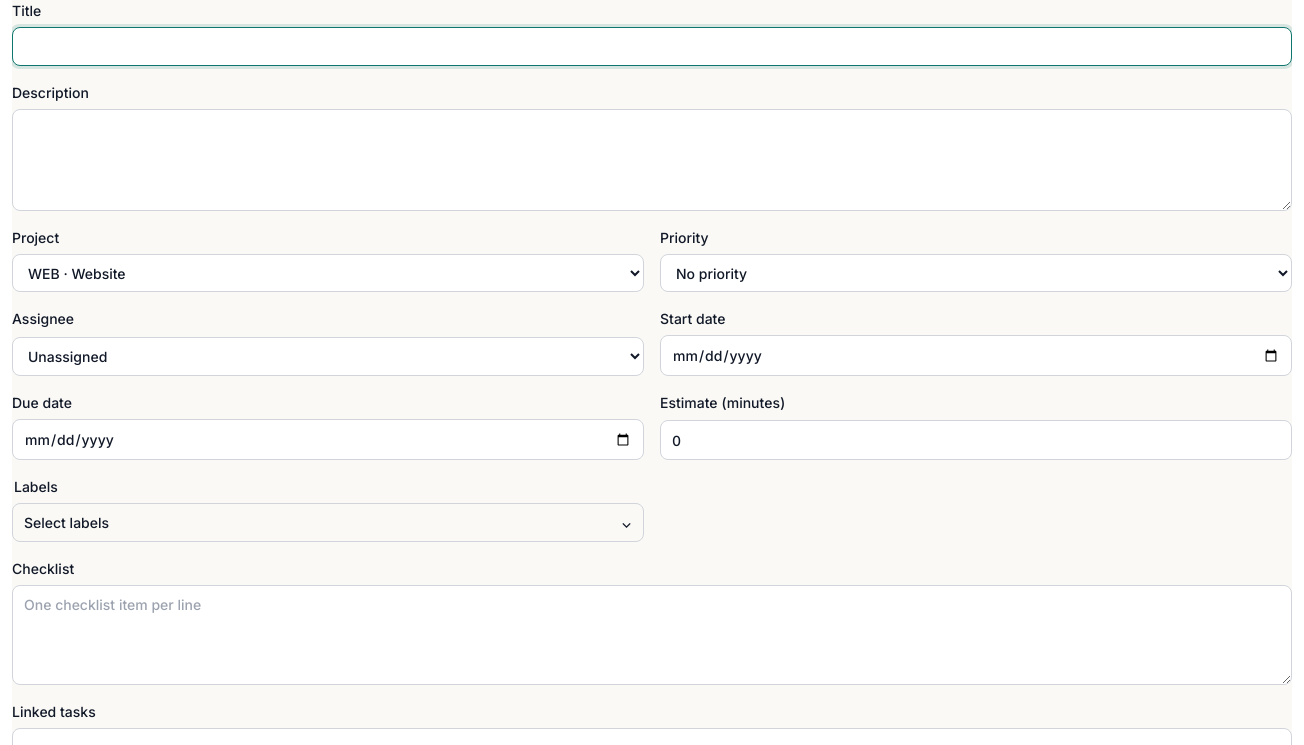
Test: TaskForm labels › submits every checked workspace label
This screenshot has width=1304, height=745.
Later steps or results of the test are not shown.
Type "Fix navigation" into the field labelled "Title" at coordinates (652, 46), box [12,27,1292,66]
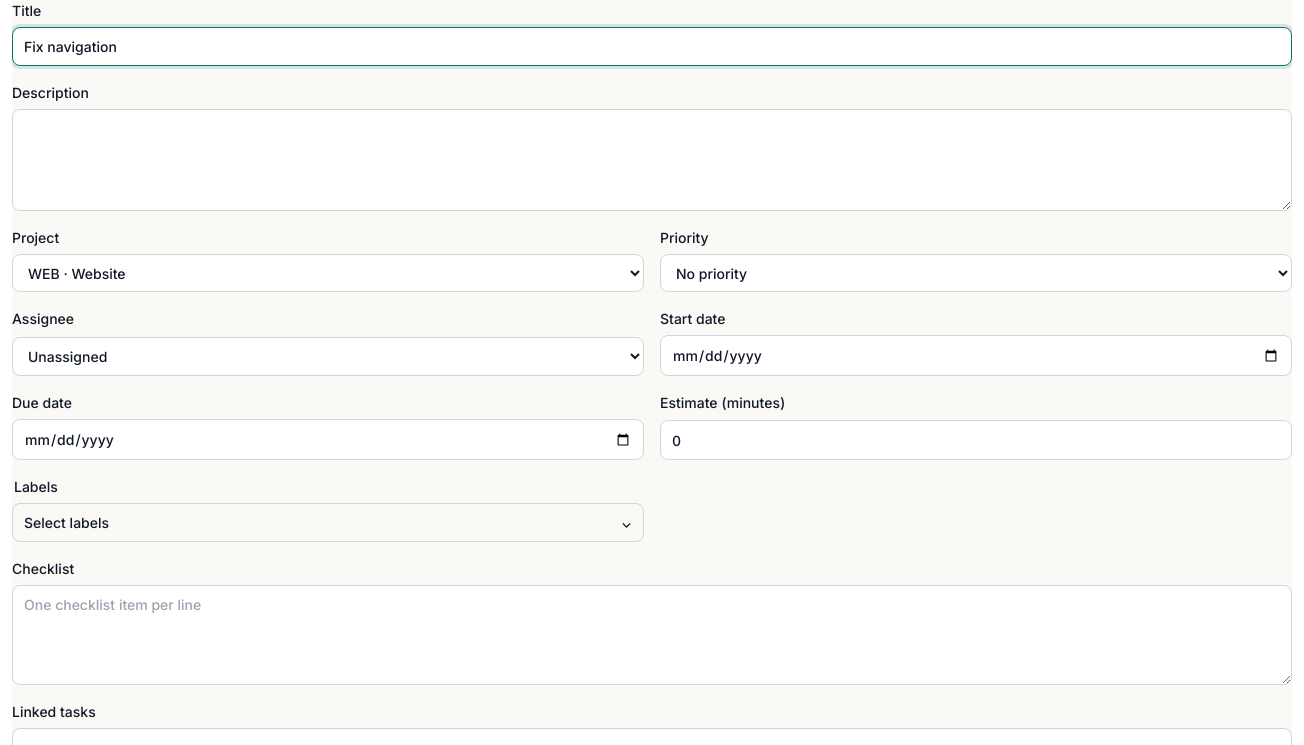
Click the heading "Select labels ⌄" at coordinates (67, 522), box [12,503,644,542]
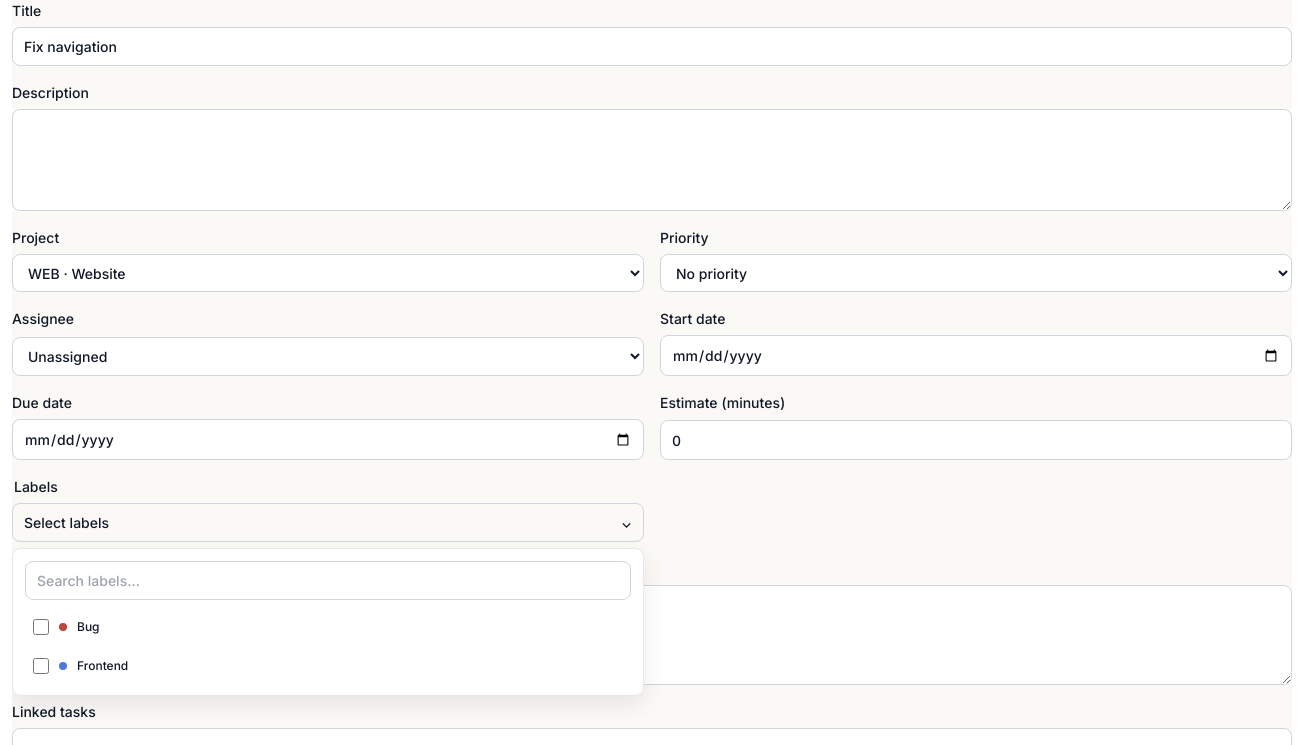
Type "front" into the search field labelled "Search labels" at coordinates (328, 580), box [25,561,631,600]
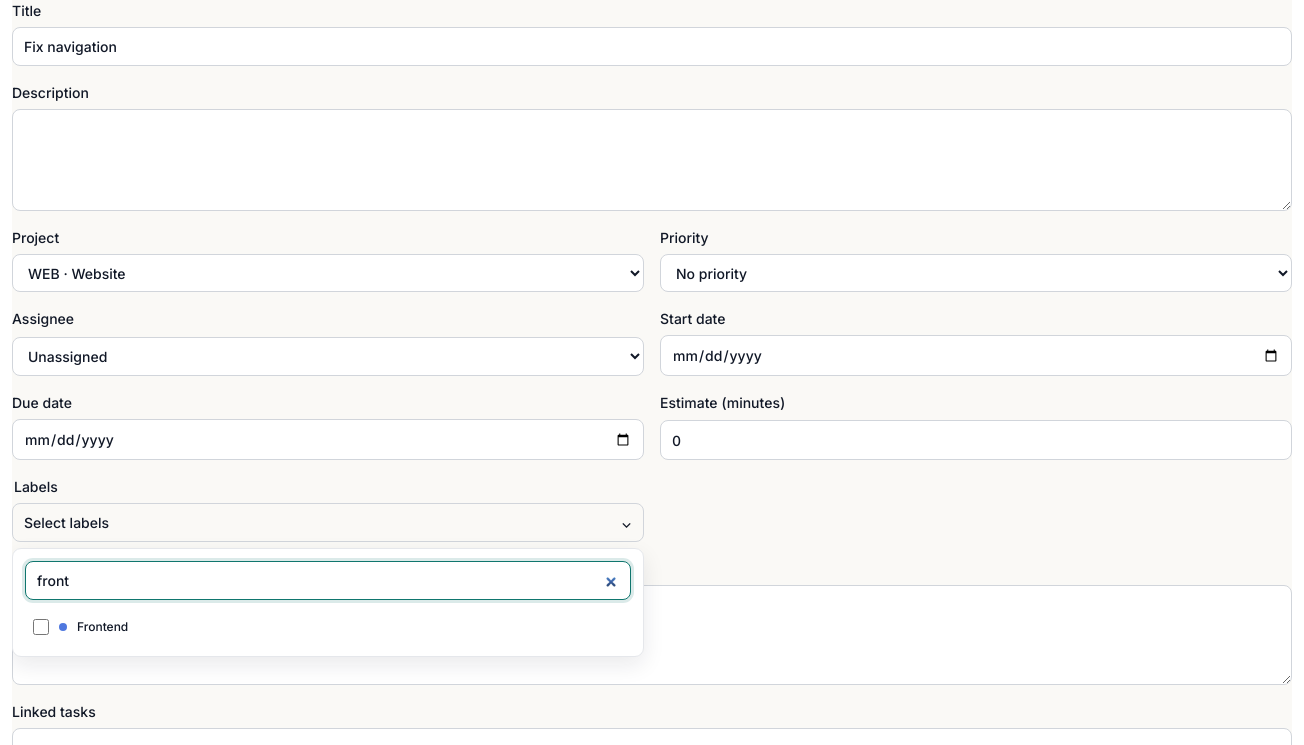
Expected: the text labelled "Bug" is gone
Click the checkbox labelled "Frontend" at coordinates (41, 627), box [33,619,49,635]
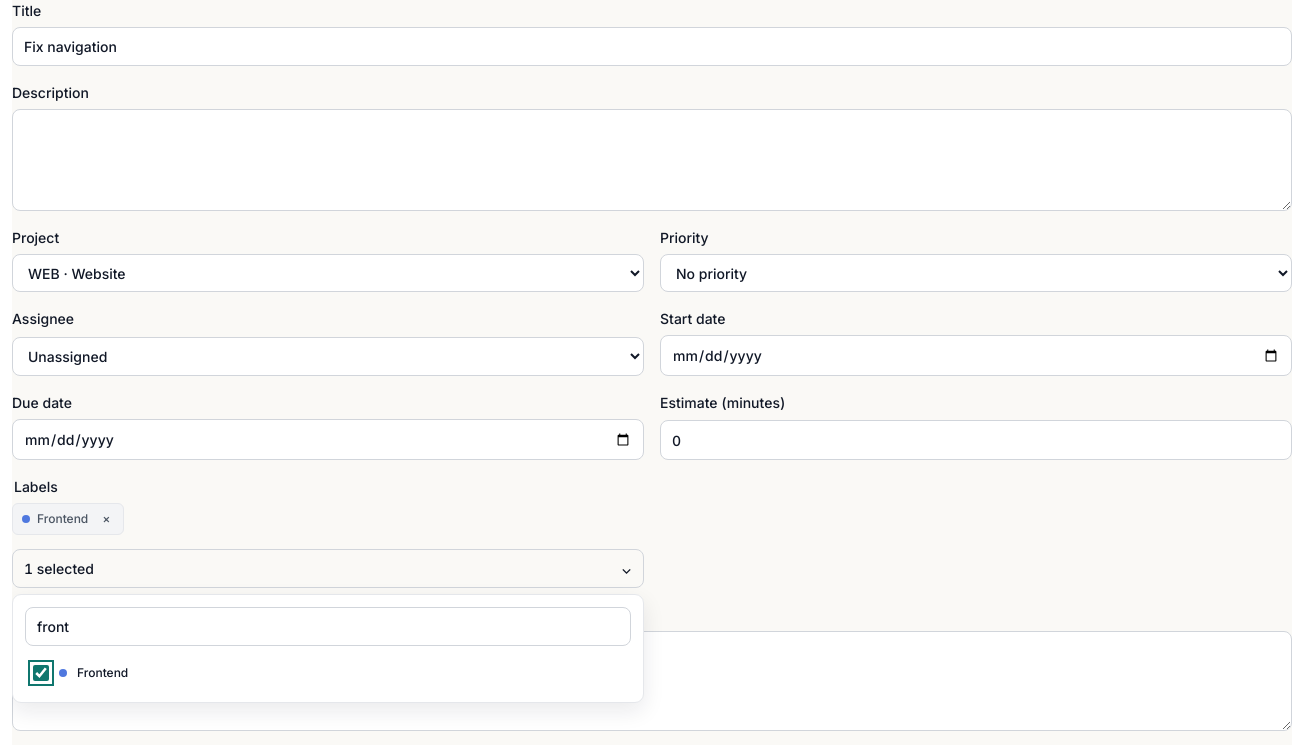
Clear the search field named "Search labels" at coordinates (328, 626), box [25,607,631,646]
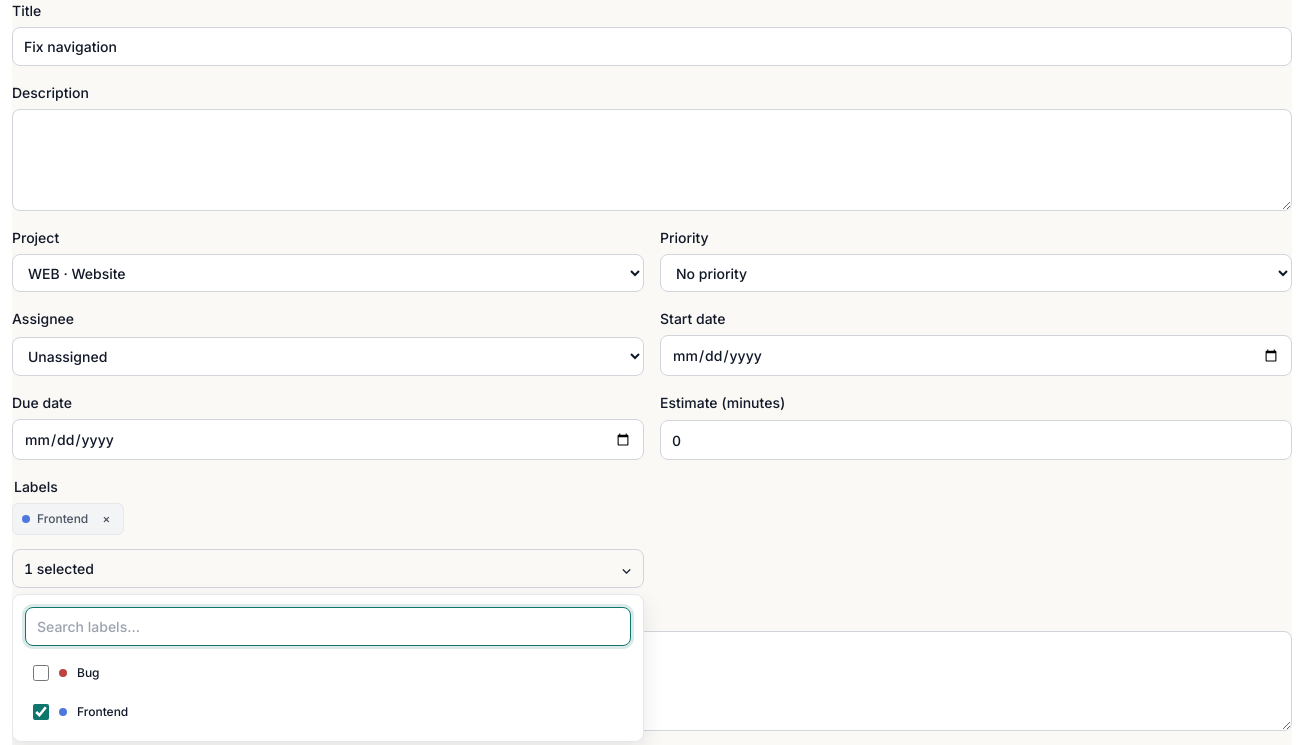
Click the checkbox labelled "Bug" at coordinates (41, 673), box [33,665,49,681]
(page scrolled)
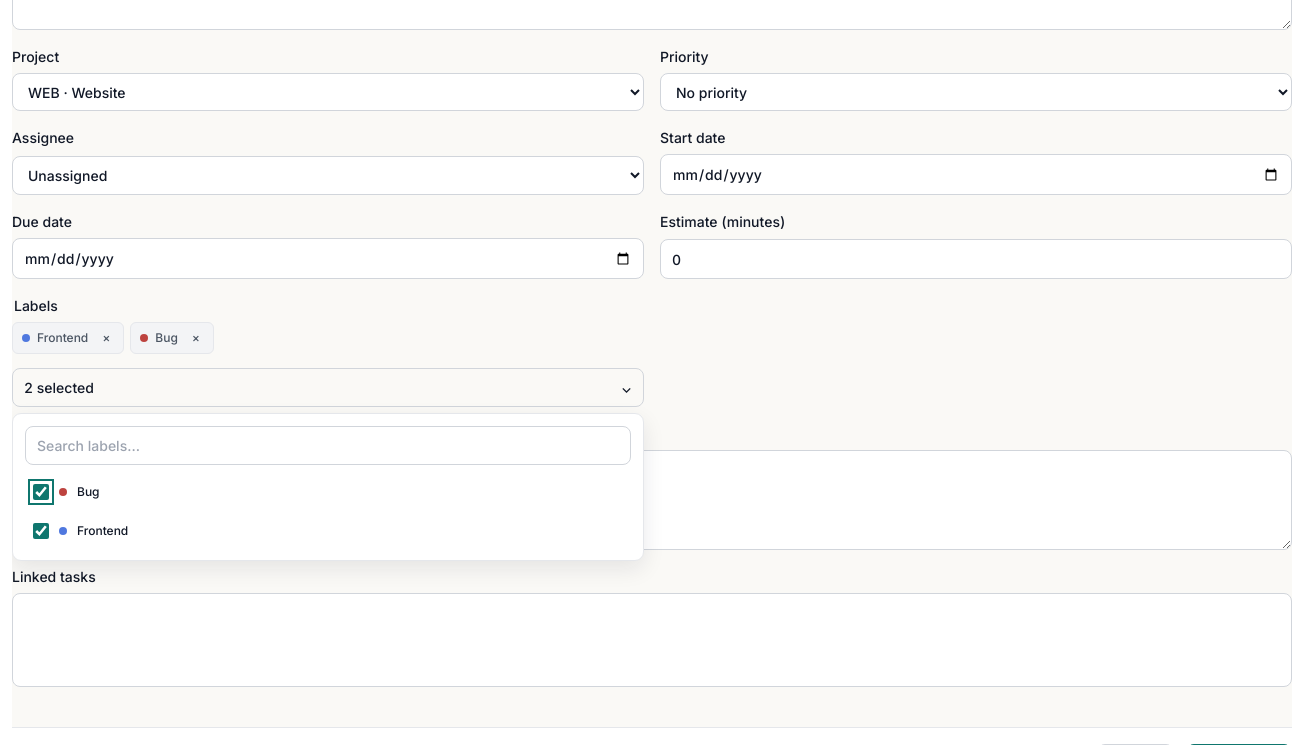
Expected: the button named "Remove Frontend" is shown, [95,327,117,349]
Expected: the button named "Remove Bug" is shown, [185,327,207,349]
